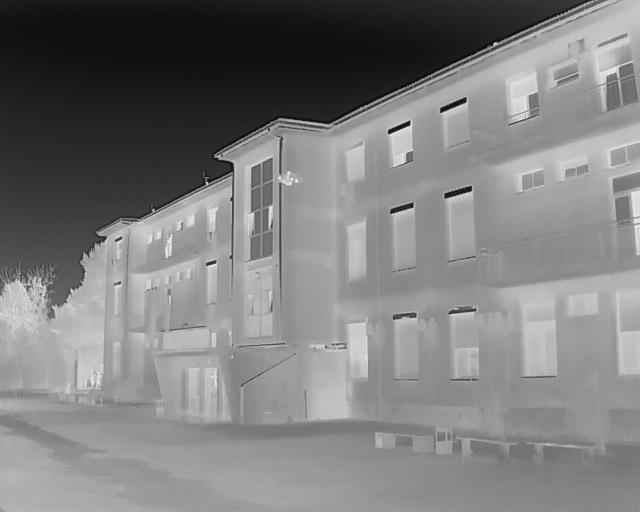drone: (269, 168, 302, 188)
